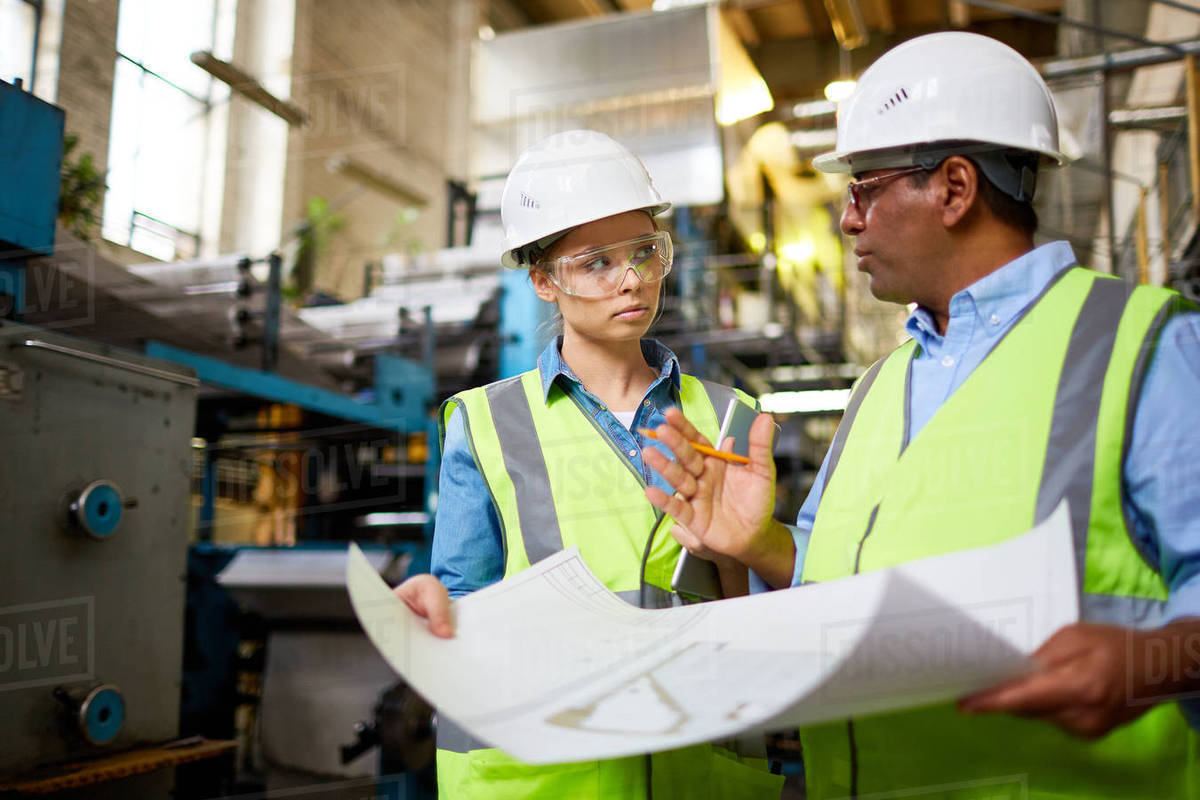Person_wearing_helmet: (817, 23, 1073, 226), (497, 115, 679, 292)
